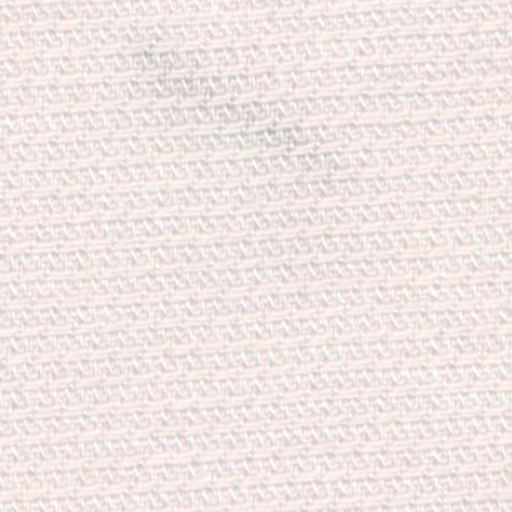WuZi: (112, 22, 341, 188)
